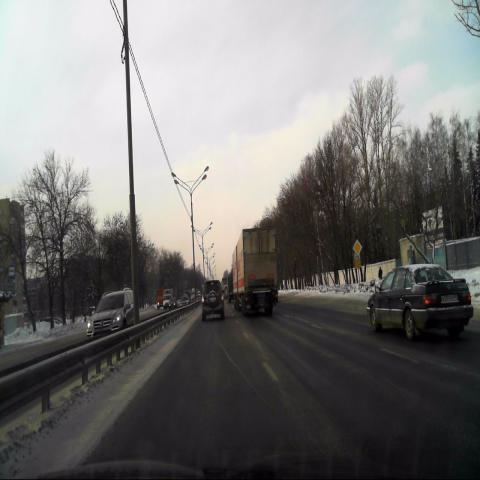2_1: (352, 239, 362, 255)
